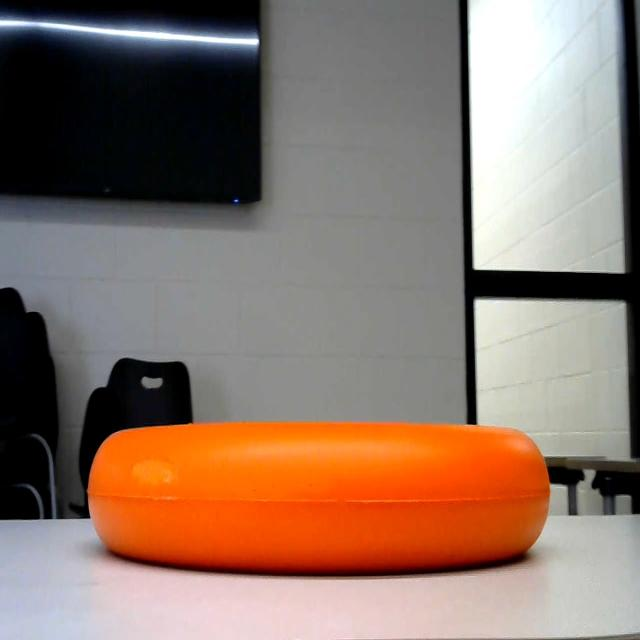note: (83, 416, 572, 588)
